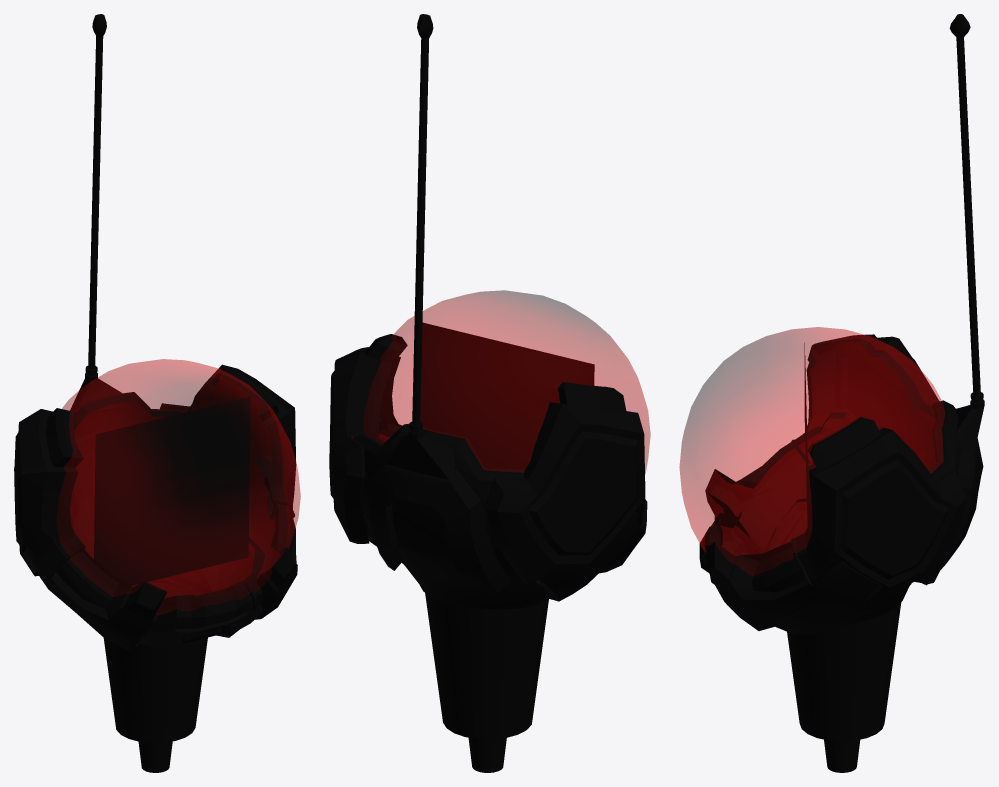
File: speedbost.fbx
3 views of the same model, side by side, from view 1: azimuth 30°, elevation 25°; view 2: azimuth 150°, elevation 25°; view 3: azimuth 270°, elevation 25° (orthographic). The views are drawn at different scales.
Visible parts, largest first — view 1: pCylinder3; view 2: pCylinder3; view 3: pCylinder3.
Part boxes in pixels (<box>): pCylinder3: <box>14,14,300,772</box>; pCylinder3: <box>329,14,650,772</box>; pCylinder3: <box>679,14,984,772</box>.
Bounding box in the file's own units: 1.08 × 2.67 × 0.9836.
